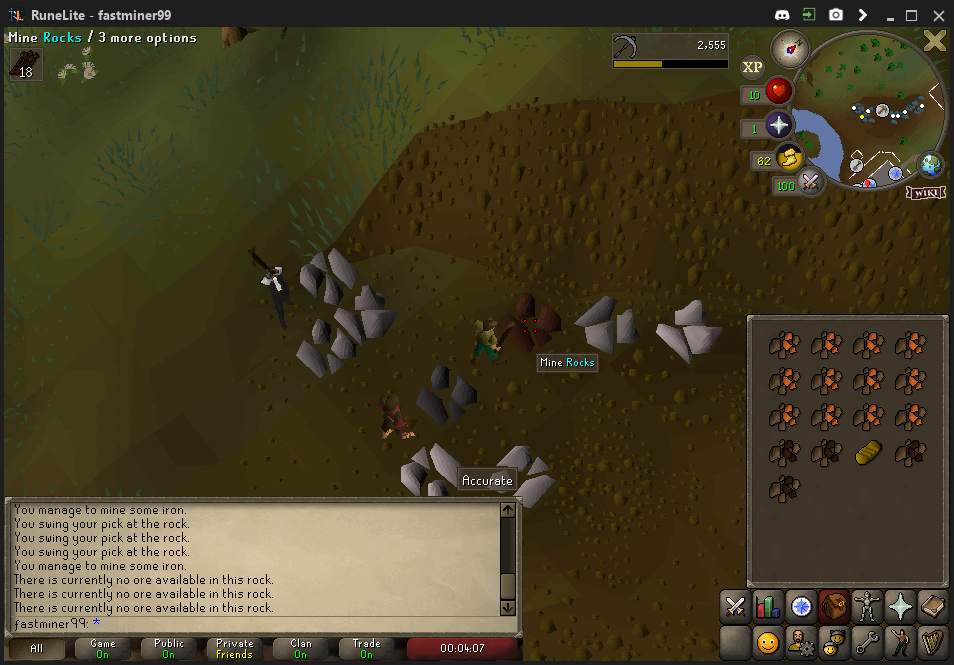depleted: (412, 362, 479, 427)
ore: (498, 290, 566, 351)
